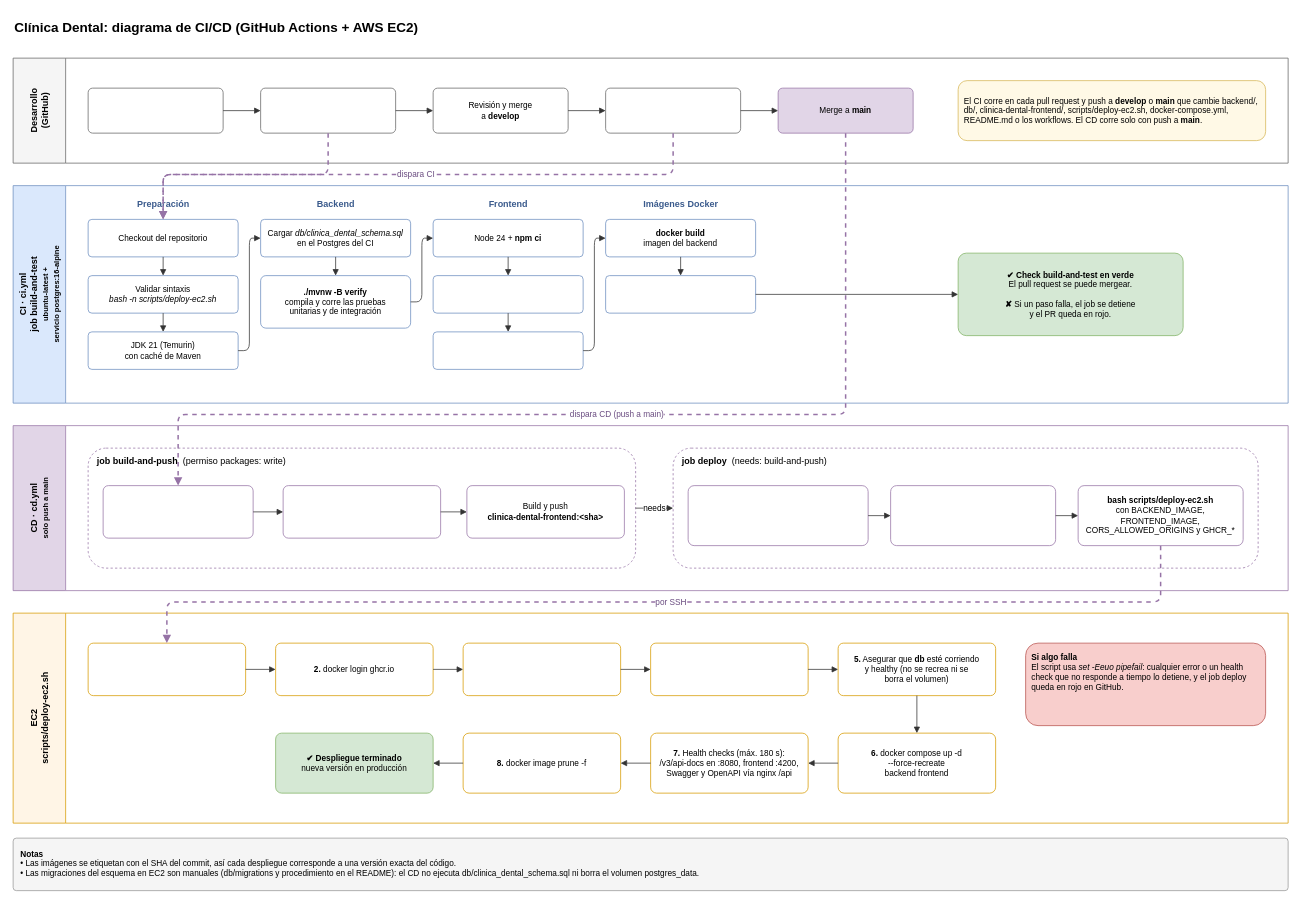
This 1301x904 diagram has some shape labels left out. The centre of each missing label's shape, as x and y in pixels:
1. Validar variables requeridas, que exista .env y que haya curl y python3: pixel 166 669
3. Guardar BACKEND_IMAGE, FRONTEND_IMAGE y CORS_ALLOWED_ORIGINS en .env: pixel 541 669
4. docker compose pull backend frontend: pixel 729 669
Build y push clinica-dental-backend:<sha>: pixel 361 511
Conexión SSH a la EC2 (appleboy/ssh-action) EC2_HOST, EC2_USERNAME, EC2_SSH_KEY: pixel 777 515
docker build imagen del frontend: pixel 680 294
git fetch origin main git checkout --detach <sha>: pixel 973 515
Login en ghcr.io con GITHUB_TOKEN: pixel 177 511
ng build --configuration production: pixel 507 294
npm test (pruebas del frontend): pixel 507 350
Pull request a develop: pixel 328 110
Pull request de release develop → main: pixel 673 110
Trabajo en una rama feature/* o fix/*: pixel 155 110
